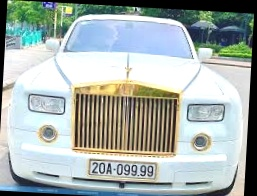Bien-so: (88, 159, 159, 182)
